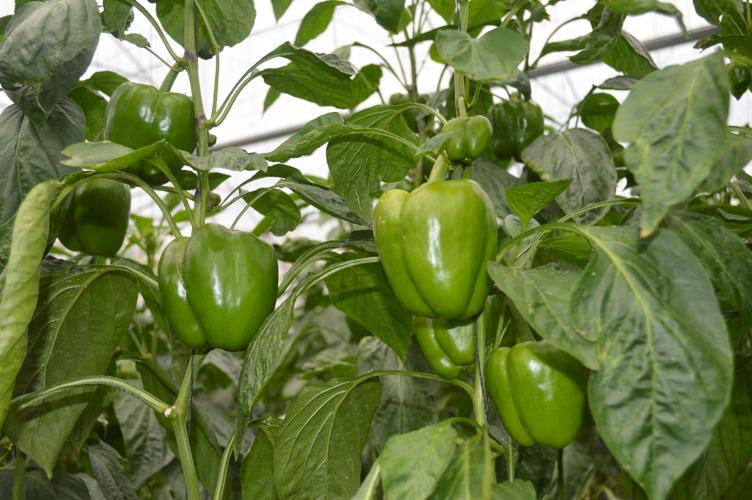BellPepper: (376, 179, 495, 313), (160, 225, 285, 344), (479, 338, 588, 455), (103, 84, 191, 178), (51, 178, 131, 253), (407, 304, 470, 376), (488, 100, 536, 149), (435, 113, 485, 160)
